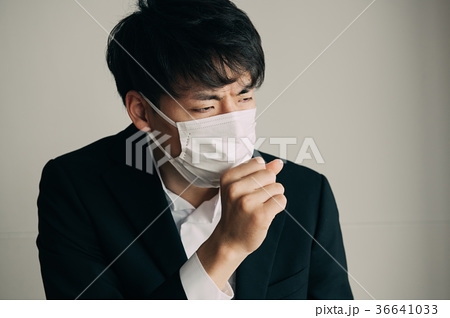mask: (177, 116, 259, 194)
